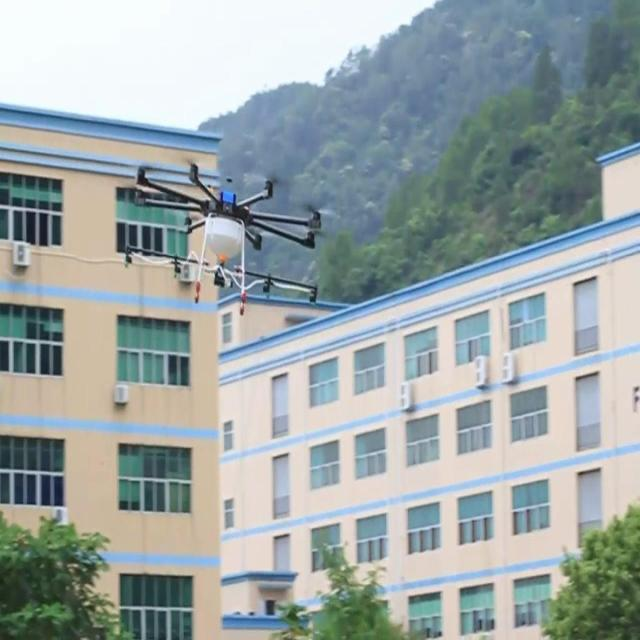drone: (124, 159, 325, 318)
